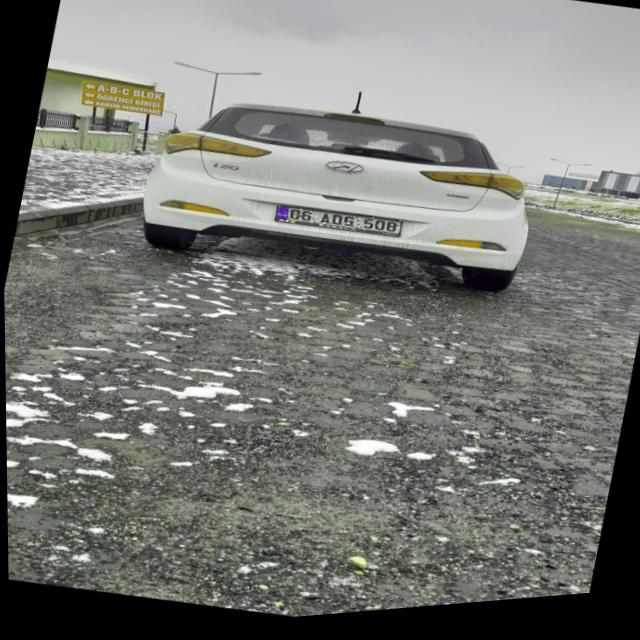license_plate: (273, 201, 401, 249)
